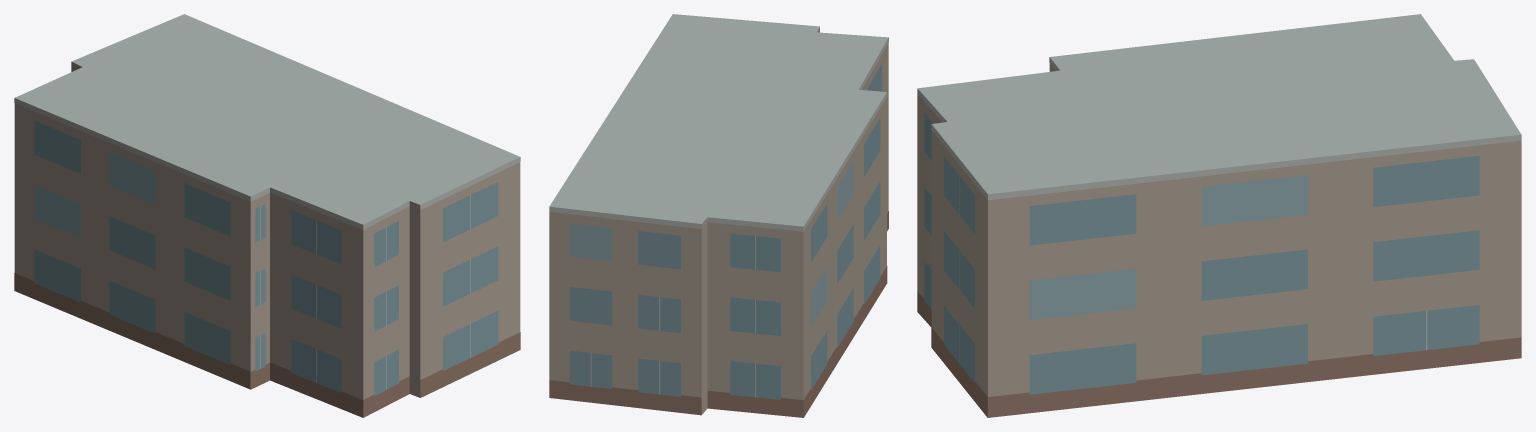
Rendered from survey-upis-33002110.glb.
3 renders of one model, left to right at view 1: azimuth 30°, elevation 25°; view 2: azimuth 150°, elevation 25°; view 3: azimuth 270°, elevation 25°, orthographic. The views are drawn at different scales.
Parts seen in each view (by area): view 1: survey-upis-33002110.tmp; view 2: survey-upis-33002110.tmp; view 3: survey-upis-33002110.tmp.
Part boxes in pixels (x1=…): survey-upis-33002110.tmp: x1=14, y1=14, x2=520, y2=417; survey-upis-33002110.tmp: x1=549, y1=14, x2=888, y2=417; survey-upis-33002110.tmp: x1=917, y1=14, x2=1521, y2=417.
Size of the model in its own units: 15.84 by 9.15 by 22.42.
